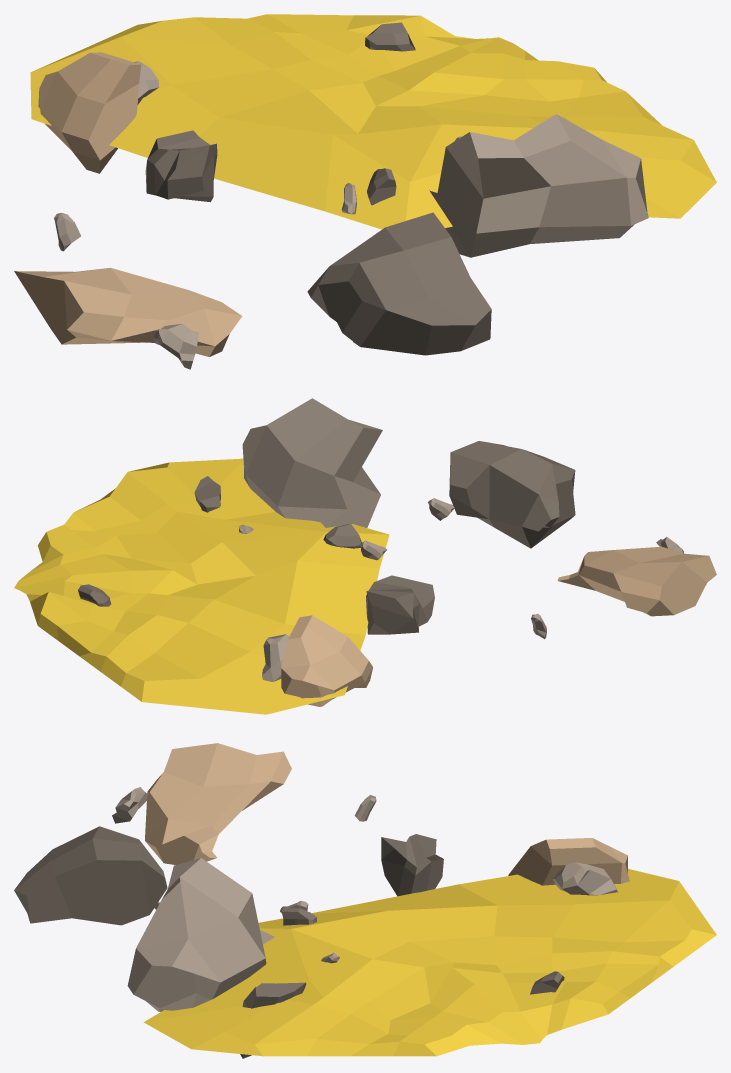
File: street4_01_7.fbx
The picture shows the model from 3 angles, top to bottom: view 1: azimuth 30°, elevation 25°; view 2: azimuth 150°, elevation 25°; view 3: azimuth 270°, elevation 25°; orthographic projection. The views are drawn at different scales.
Parts seen in each view (by area): view 1: sandway01x02, stones.006, stones, stones.033, stones.003, stonii, stones.005, stones.002, stones.013, stones.015; view 2: sandway01x02, stones.006, stones, stones.033, stones.003, stonii, stones.001, stones.007, stones.013; view 3: sandway01x02, stones.006, stones.033, stones, stones.003, stonii, stones.001, stones.007, stones.005, stones.013, stones.002.
Boxes of the visible parts, x1,y1,x2,y2 form: sandway01x02: (30,14,716,229); stones.006: (429,114,648,257); stones: (307,212,491,355); stones.033: (14,267,242,356); stones.003: (38,52,141,173); stonii: (145,130,217,202); stones.005: (153,323,199,369); stones.002: (365,22,415,51); stones.013: (367,168,396,205); stones.015: (54,213,80,251); sandway01x02: (14,458,389,714); stones.006: (242,398,382,527); stones: (449,441,575,548); stones.033: (557,546,716,616); stones.003: (281,615,372,706); stonii: (366,575,434,634); stones.001: (262,634,289,681); stones.007: (194,476,220,512); stones.013: (323,524,361,548); sandway01x02: (143,869,716,1056); stones.006: (127,858,274,1011); stones.033: (145,743,291,864); stones: (14,826,167,925); stones.003: (508,838,629,885); stonii: (381,834,443,896); stones.001: (553,862,617,895); stones.007: (240,982,306,1058); stones.005: (112,787,147,823); stones.013: (281,907,316,925); stones.002: (530,971,564,994).
Size of the model in its own units: 86 by 21.19 by 90.57.
